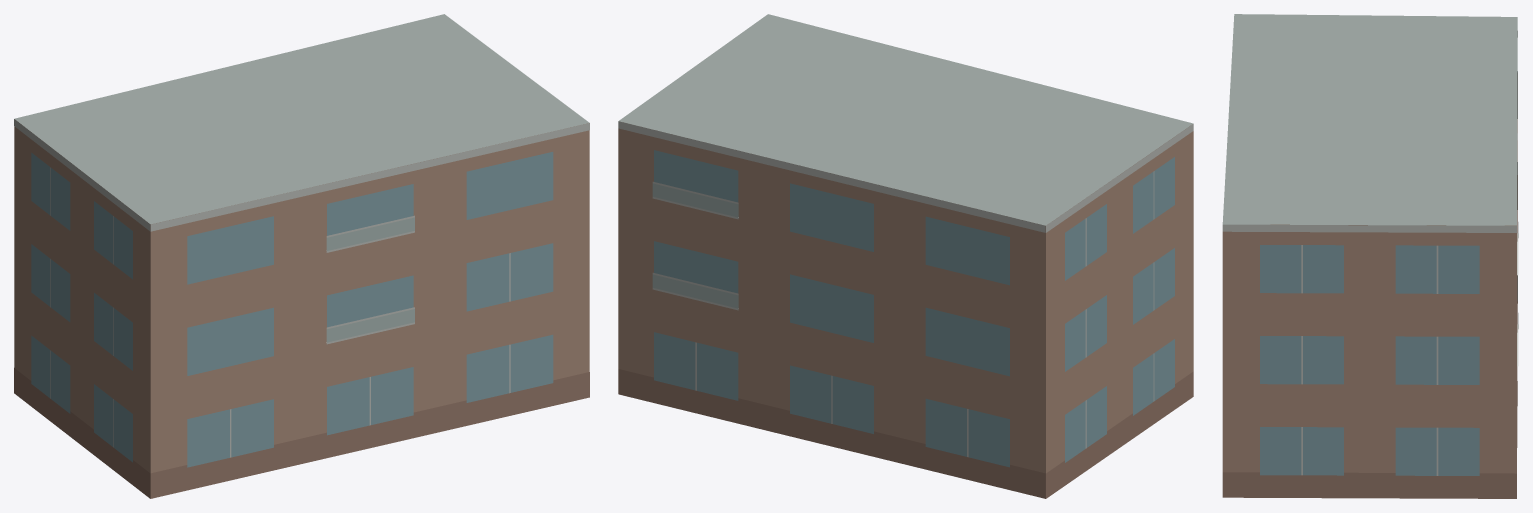
File: survey-upis-32944406.glb
3 renders of one model, left to right at view 1: azimuth 30°, elevation 25°; view 2: azimuth 150°, elevation 25°; view 3: azimuth 270°, elevation 25°, orthographic.
Parts seen in each view (by area): view 1: survey-upis-32944406.tmp; view 2: survey-upis-32944406.tmp; view 3: survey-upis-32944406.tmp.
Part boxes in pixels (box(x1,y1,x2,y2)): survey-upis-32944406.tmp: box(14, 14, 589, 498); survey-upis-32944406.tmp: box(618, 14, 1193, 498); survey-upis-32944406.tmp: box(1222, 14, 1518, 498).
Bounding box in the file's own units: 15.22 × 9.15 × 8.99.
